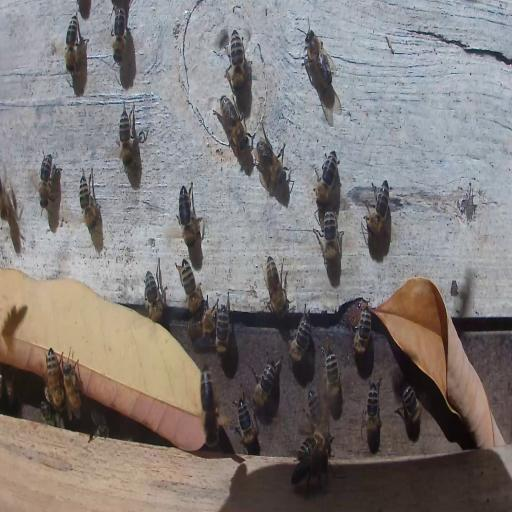bee: (197, 360, 221, 450), (219, 94, 250, 156), (304, 28, 333, 90), (290, 452, 329, 496), (264, 256, 291, 317), (256, 137, 287, 189), (313, 148, 339, 208), (250, 357, 278, 410), (177, 182, 200, 245), (366, 179, 391, 235), (236, 398, 260, 454), (142, 269, 166, 322), (288, 310, 312, 363), (319, 211, 343, 264), (78, 172, 98, 234), (229, 29, 248, 92), (364, 376, 382, 442), (398, 384, 423, 431), (180, 257, 202, 310), (352, 304, 374, 356), (324, 348, 343, 408), (45, 349, 63, 411), (64, 361, 82, 418), (188, 308, 218, 342), (306, 390, 329, 432), (118, 106, 133, 170), (215, 298, 230, 356), (38, 149, 52, 210), (112, 5, 126, 65), (65, 14, 78, 75), (298, 431, 327, 456), (89, 412, 110, 440), (39, 401, 59, 425)
